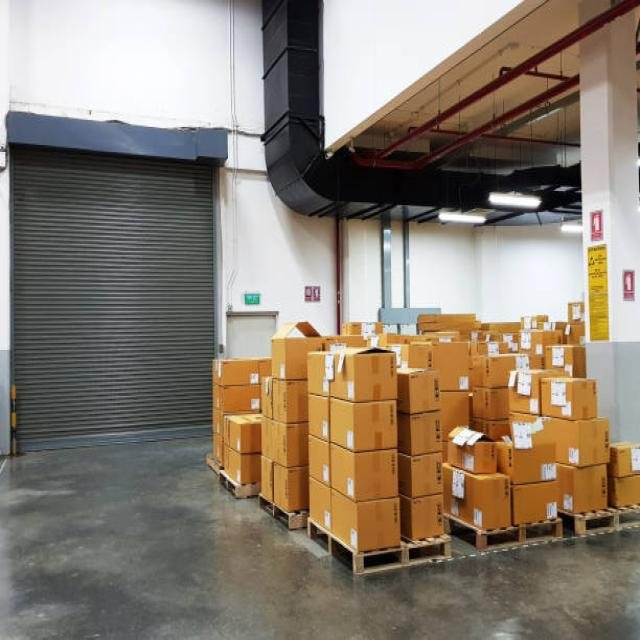Wooden-Pallets: (300, 514, 452, 584), (471, 511, 564, 561), (568, 494, 640, 552), (247, 485, 297, 541)
